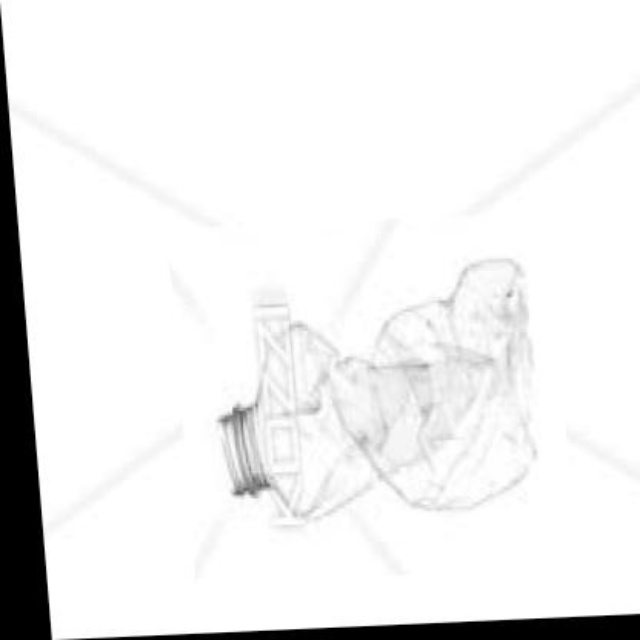trash: (220, 258, 534, 517), (331, 260, 534, 508), (218, 300, 374, 517)
